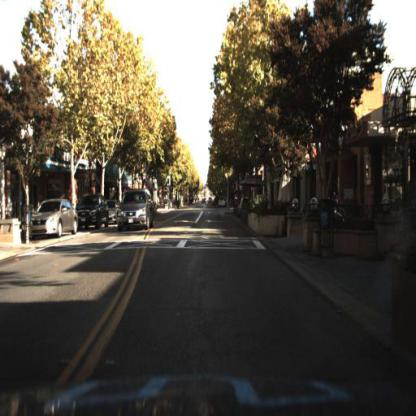car: (29, 194, 83, 240), (115, 185, 153, 236), (28, 200, 79, 236), (117, 187, 155, 229), (79, 190, 110, 230), (78, 194, 109, 228)
